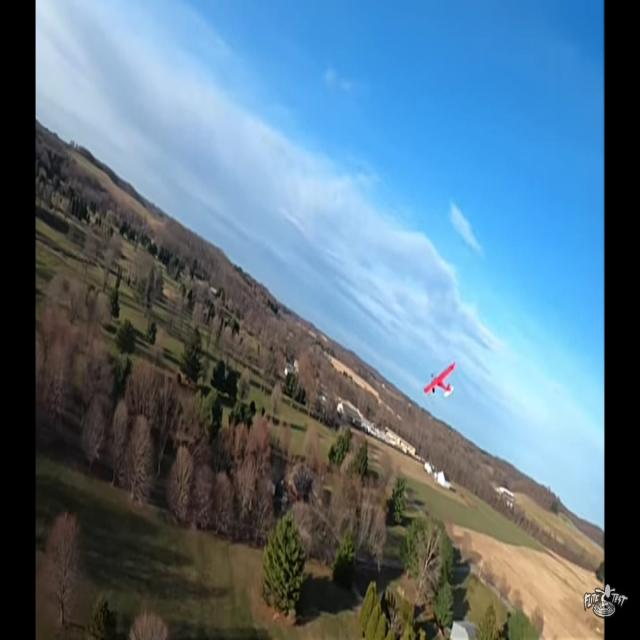iha: (423, 359, 456, 401)
